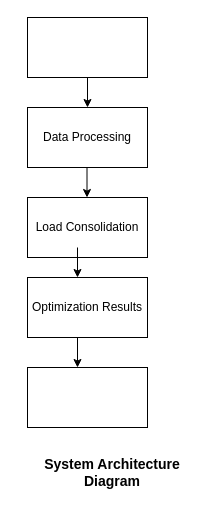
Image size: 224x507. Some labels were removed from this diagram. Here are the shapes that lost their labels. From the top down, the centre of each, then its label:
At point 87,47: "Shipment Dataset".
At point 87,397: "Streamlit Dashboards".
